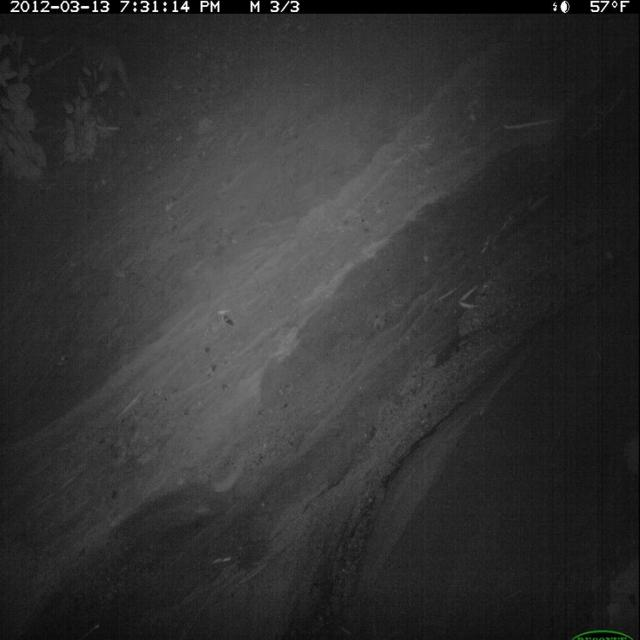bobcat: (72, 20, 151, 128)
